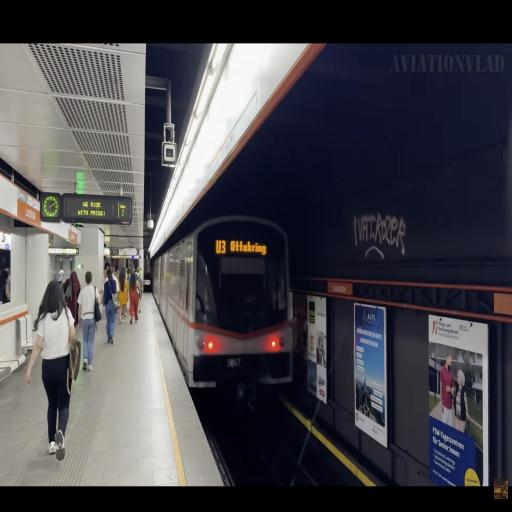Silberpfeil: (153, 215, 297, 387)
